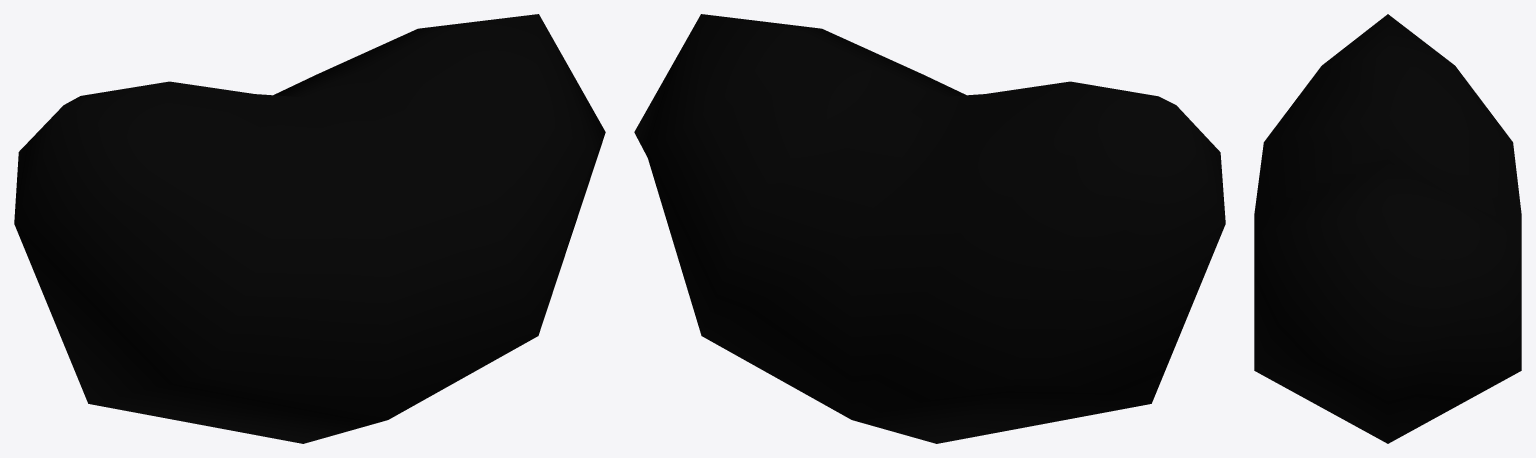
The picture shows the model from 3 angles, left to right: view 1: azimuth 30°, elevation 25°; view 2: azimuth 150°, elevation 25°; view 3: azimuth 270°, elevation 25°; orthographic projection. The views are drawn at different scales.
Visible parts, largest first — view 1: T1L8M002_7; view 2: T1L8M002_7; view 3: T1L8M002_7.
Part boxes in pixels (left/top/right/bottom): T1L8M002_7: left=14, top=14, right=605, bottom=443; T1L8M002_7: left=634, top=14, right=1225, bottom=443; T1L8M002_7: left=1254, top=14, right=1521, bottom=443.
Size of the model in its own units: 0.5615 by 0.3604 by 0.2793.
